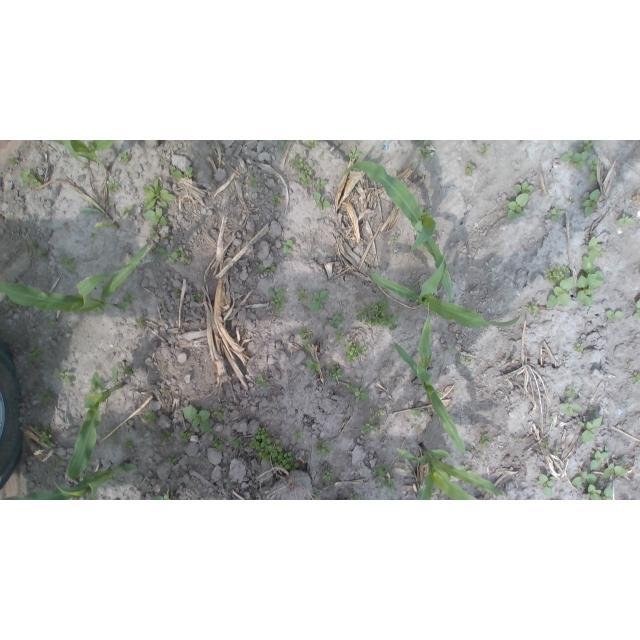Maize: (342, 161, 454, 304), (367, 250, 522, 330), (1, 236, 156, 315), (394, 302, 468, 455), (65, 363, 127, 482), (396, 442, 503, 500), (1, 459, 136, 500), (50, 140, 115, 172), (79, 208, 121, 231)
Weeds: (249, 426, 299, 471), (356, 296, 399, 330), (576, 257, 604, 307), (506, 181, 534, 220), (143, 179, 175, 209), (547, 277, 574, 308), (289, 157, 314, 186), (182, 408, 210, 433), (560, 147, 589, 170), (582, 237, 607, 263), (159, 247, 192, 265), (579, 418, 602, 443), (571, 467, 597, 489), (544, 264, 571, 285), (581, 189, 600, 216), (345, 342, 369, 363), (269, 287, 288, 313), (536, 474, 556, 498), (143, 209, 167, 228), (21, 169, 44, 188), (35, 425, 54, 447), (591, 450, 610, 470), (28, 241, 47, 260), (311, 290, 329, 310), (361, 419, 383, 435), (314, 440, 334, 457), (603, 464, 625, 479), (54, 368, 72, 386), (314, 192, 331, 211), (548, 206, 567, 222), (60, 254, 76, 272), (326, 366, 344, 382), (37, 391, 56, 406), (559, 404, 581, 416), (586, 484, 602, 500), (46, 458, 61, 475), (329, 312, 344, 328), (355, 386, 369, 403), (141, 410, 159, 423), (617, 213, 635, 226), (605, 310, 623, 323), (306, 361, 321, 376), (524, 301, 540, 315), (375, 464, 390, 478), (578, 140, 594, 153), (153, 489, 171, 500), (29, 347, 43, 361), (565, 386, 577, 402), (384, 478, 396, 494), (108, 179, 119, 196), (260, 264, 277, 275), (169, 166, 183, 179), (588, 155, 599, 171), (152, 245, 168, 256), (416, 148, 432, 159), (456, 356, 475, 365), (348, 147, 361, 160), (294, 290, 308, 302), (271, 192, 282, 207), (214, 407, 226, 420), (322, 470, 334, 483), (282, 240, 294, 253), (602, 486, 613, 500), (119, 206, 133, 217), (370, 409, 384, 420), (256, 374, 266, 389), (119, 151, 131, 163), (158, 430, 170, 442), (315, 178, 327, 190), (122, 291, 136, 301), (633, 299, 640, 318), (411, 407, 424, 417), (304, 140, 318, 149), (180, 432, 191, 443), (231, 437, 242, 448), (334, 331, 345, 342), (7, 155, 19, 165), (167, 454, 177, 466), (212, 440, 222, 452), (299, 328, 308, 341), (466, 163, 475, 176), (123, 365, 134, 375), (136, 319, 147, 329), (124, 438, 134, 449), (303, 342, 313, 353), (249, 176, 259, 187), (480, 434, 489, 446), (574, 343, 586, 352), (461, 466, 472, 475), (185, 167, 194, 178), (90, 383, 99, 393), (481, 145, 490, 155), (589, 172, 597, 183), (294, 432, 303, 441), (191, 294, 201, 302), (541, 440, 549, 449), (313, 488, 319, 500), (633, 372, 640, 382), (444, 345, 452, 353), (346, 383, 354, 391), (553, 449, 561, 456), (112, 434, 119, 442), (151, 227, 158, 235), (90, 232, 97, 240), (46, 320, 55, 326), (589, 409, 596, 416), (174, 290, 181, 297), (166, 233, 173, 240), (389, 237, 397, 243), (96, 308, 104, 314), (280, 140, 288, 146), (567, 197, 575, 203), (161, 391, 168, 397), (349, 493, 355, 500), (333, 362, 339, 369), (472, 449, 478, 455), (163, 306, 169, 312), (413, 284, 420, 289), (109, 203, 116, 208), (628, 361, 635, 366), (617, 170, 623, 175), (275, 476, 281, 481), (396, 308, 402, 313), (418, 140, 425, 144), (470, 372, 475, 377), (370, 218, 375, 223), (550, 416, 554, 420), (520, 141, 524, 144)
